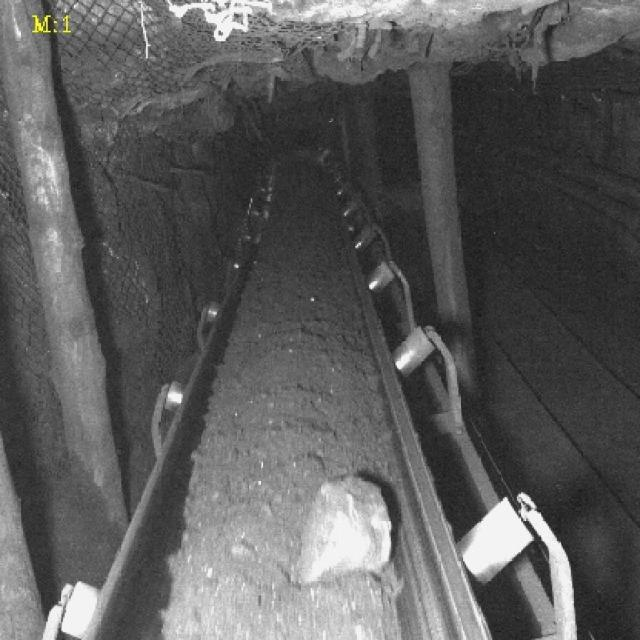large_sized_coal: (300, 472, 394, 580)
